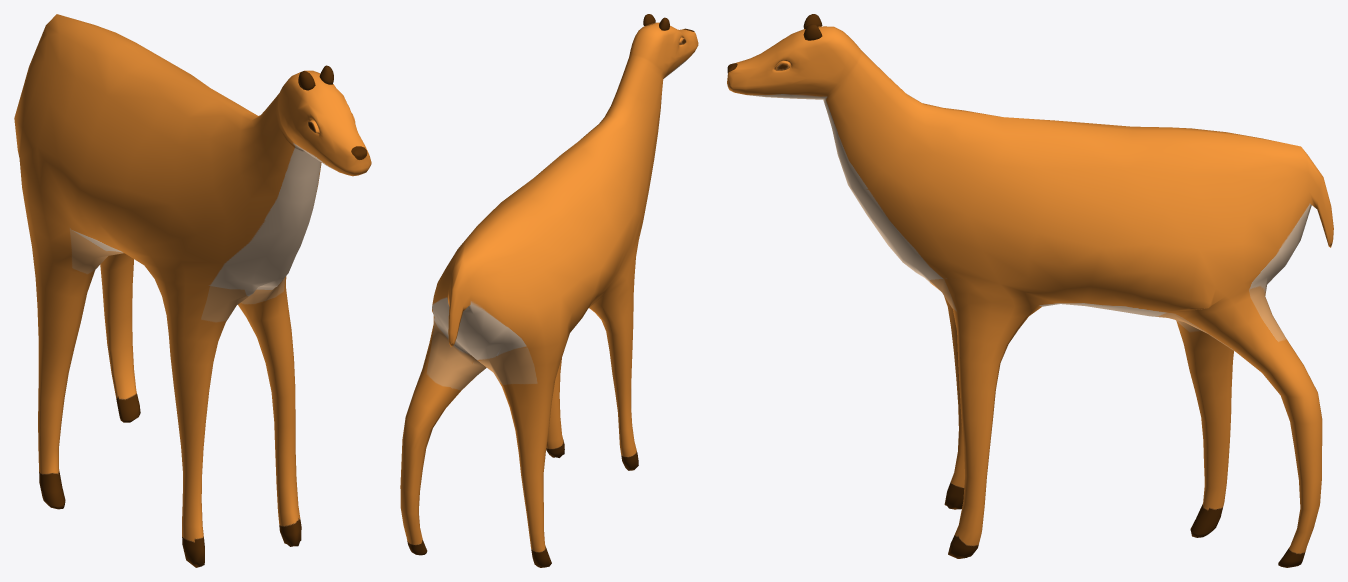
The model's file is deer_lv1.fbx.
3 renders of one model, left to right at view 1: azimuth 30°, elevation 25°; view 2: azimuth 150°, elevation 25°; view 3: azimuth 270°, elevation 25°, orthographic. The views are drawn at different scales.
Parts seen in each view (by area): view 1: pCube2; view 2: pCube2; view 3: pCube2.
Part boxes in pixels (<box>): pCube2: <box>14,14,371,567</box>; pCube2: <box>400,14,698,567</box>; pCube2: <box>727,14,1333,567</box>.
Size of the model in its own units: 7.33 by 24.62 by 25.06.
